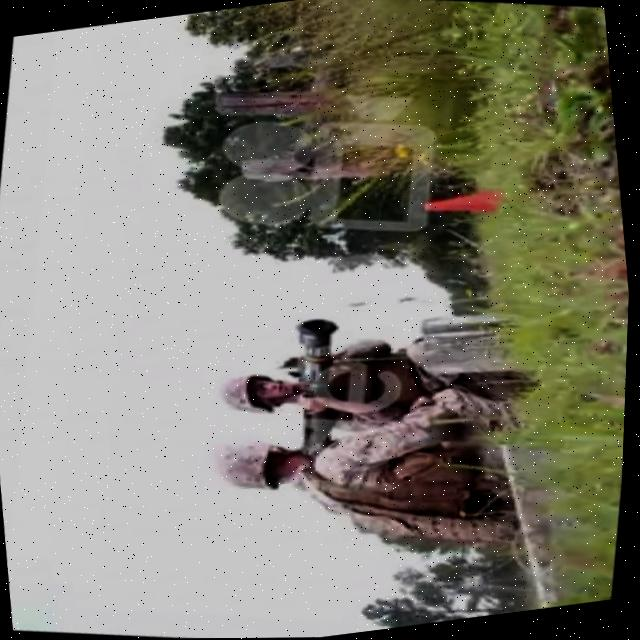rocket: (273, 310, 368, 460)
